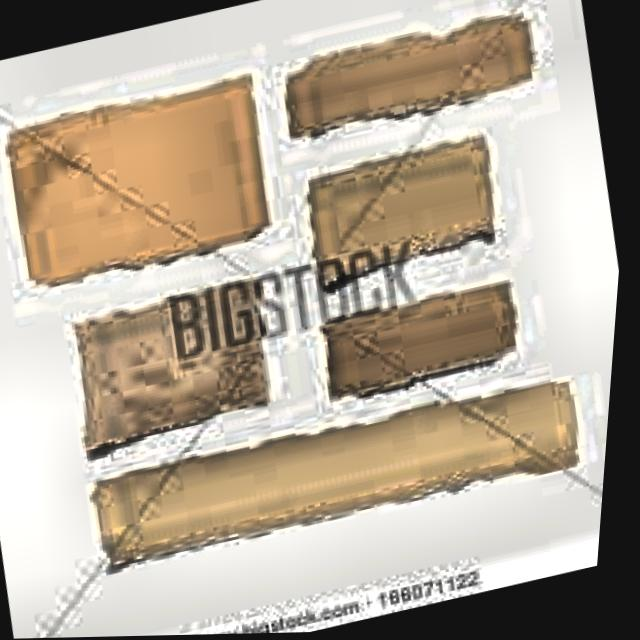Cardbox: (83, 362, 605, 587), (0, 57, 290, 311), (45, 267, 300, 468), (262, 0, 563, 149), (288, 125, 529, 305), (307, 270, 543, 410)
